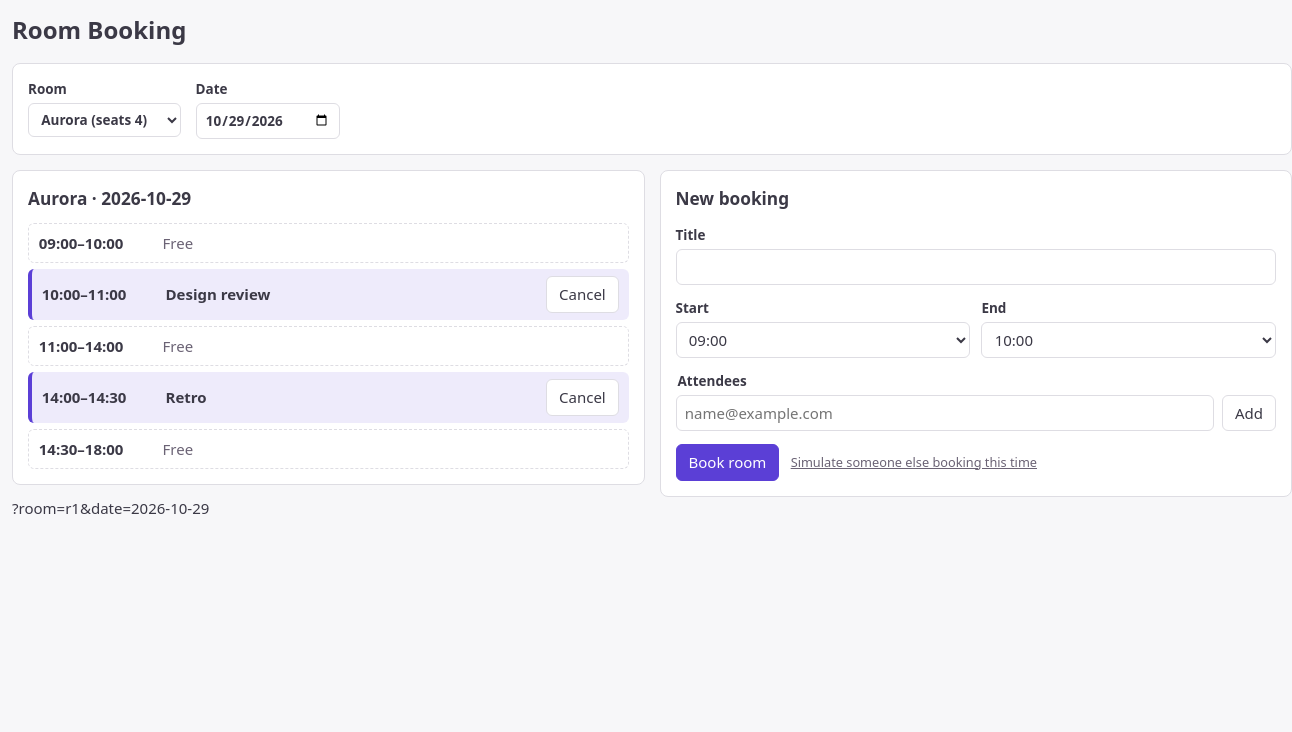
Test case: RoomBookingPage › removes a cancelled booking immediately and restores it if the API fails
Click the button with aria-label "Cancel Design review 10:00–11:00" at (582, 295), box [546,276,619,313]
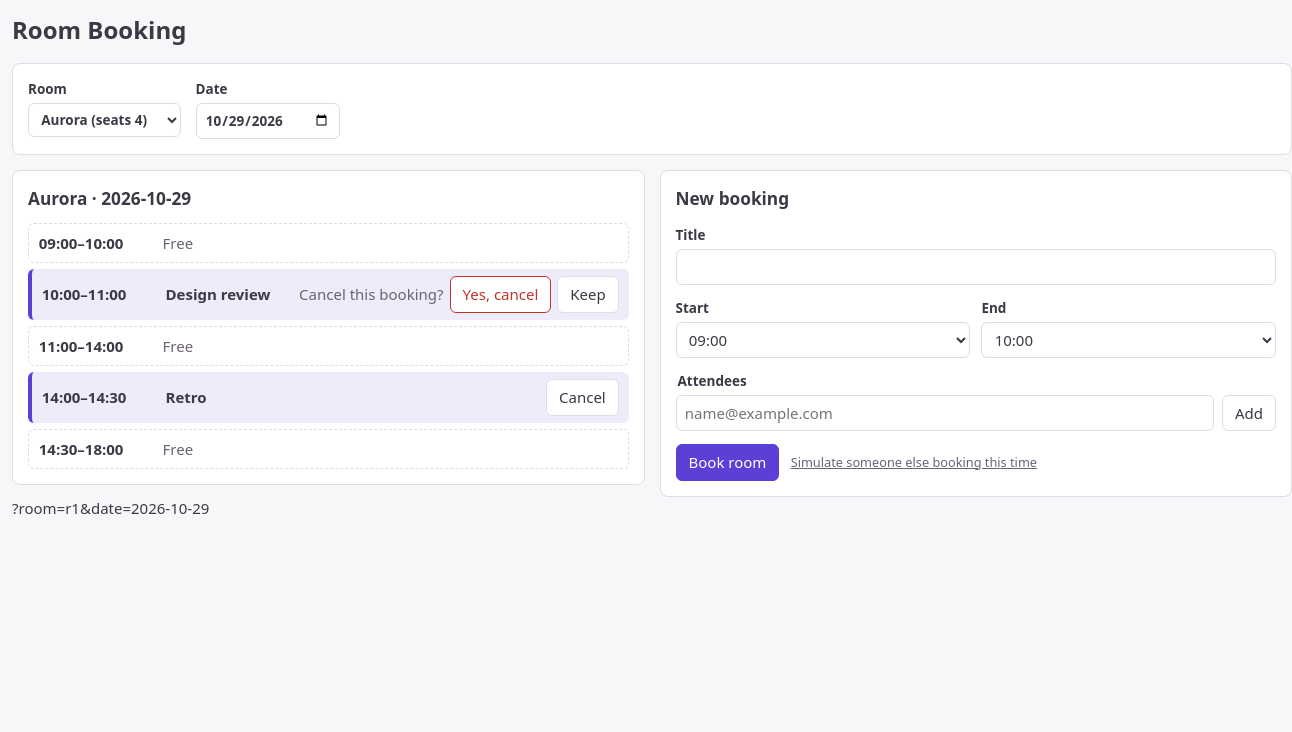
Click the button "Yes, cancel" at (500, 295), box [450,276,551,313]
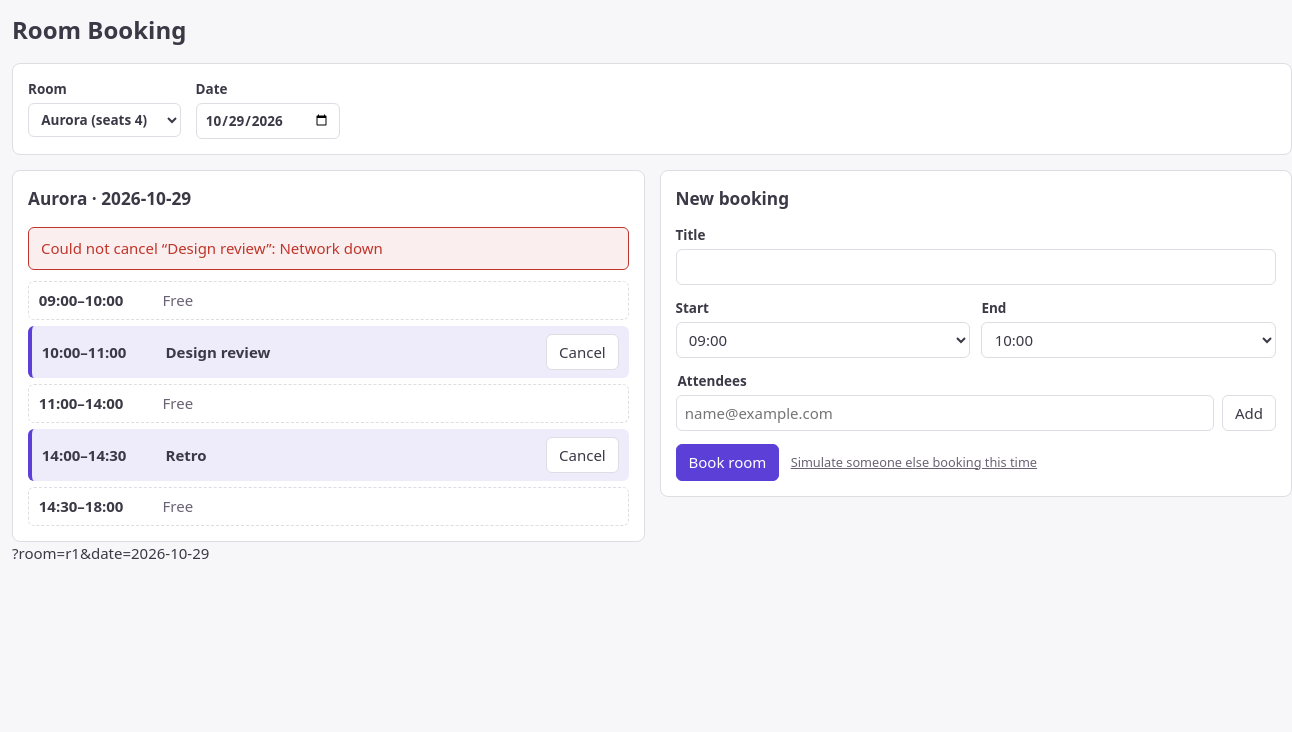
Expected: the text "Design review" is shown, [166,342,270,362]
Expected: the message reads "Could not cancel “Design review”: Network down", [41,238,383,258]
